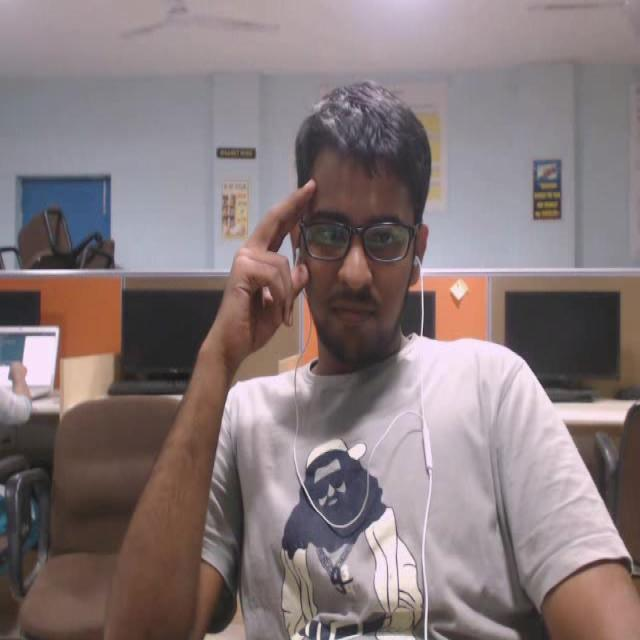Engaged: (248, 74, 482, 405)
